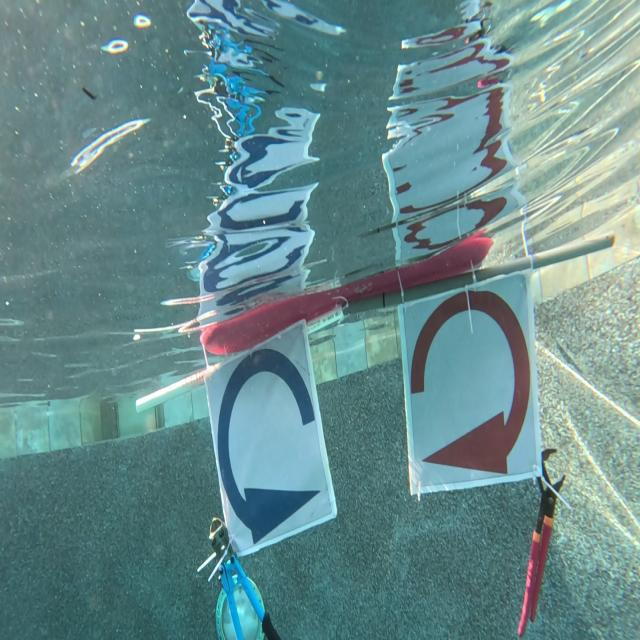blue_side: (211, 336, 327, 556)
red_side: (409, 280, 528, 481)
